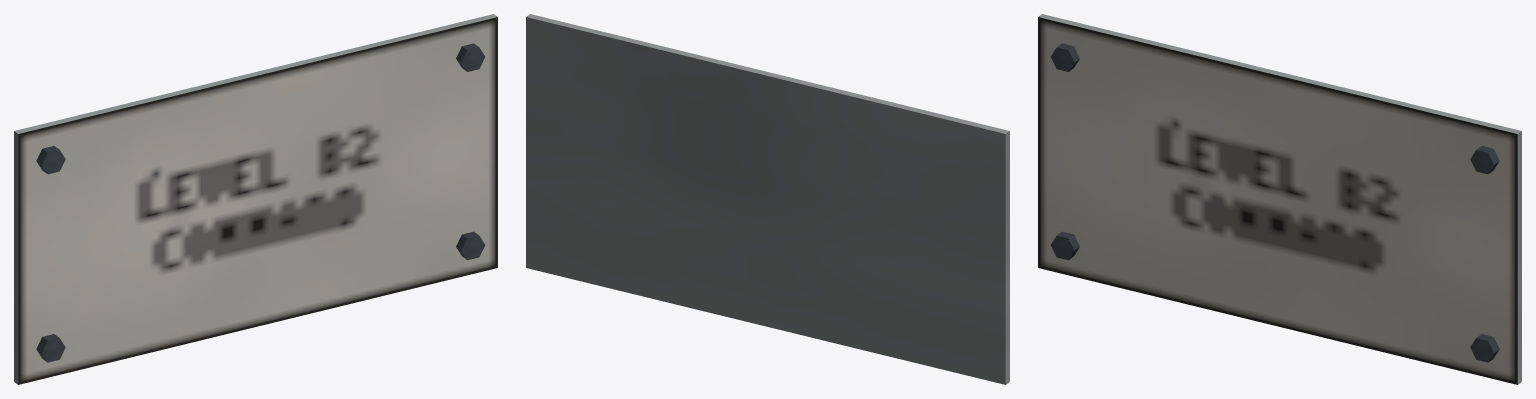
File: sign_bunker_level.glb
3 renders of one model, left to right at view 1: azimuth 30°, elevation 25°; view 2: azimuth 150°, elevation 25°; view 3: azimuth 330°, elevation 25°, orthographic.
Parts seen in each view (by area): view 1: sign_bunker_level; view 2: sign_bunker_level; view 3: sign_bunker_level.
Part boxes in pixels (bbox=[...]): sign_bunker_level: bbox=[14, 14, 497, 384]; sign_bunker_level: bbox=[526, 14, 1009, 384]; sign_bunker_level: bbox=[1038, 14, 1521, 384].
Bounding box in the file's own units: 0.4 × 0.2 × 0.014.
1 material, 1 textured.
